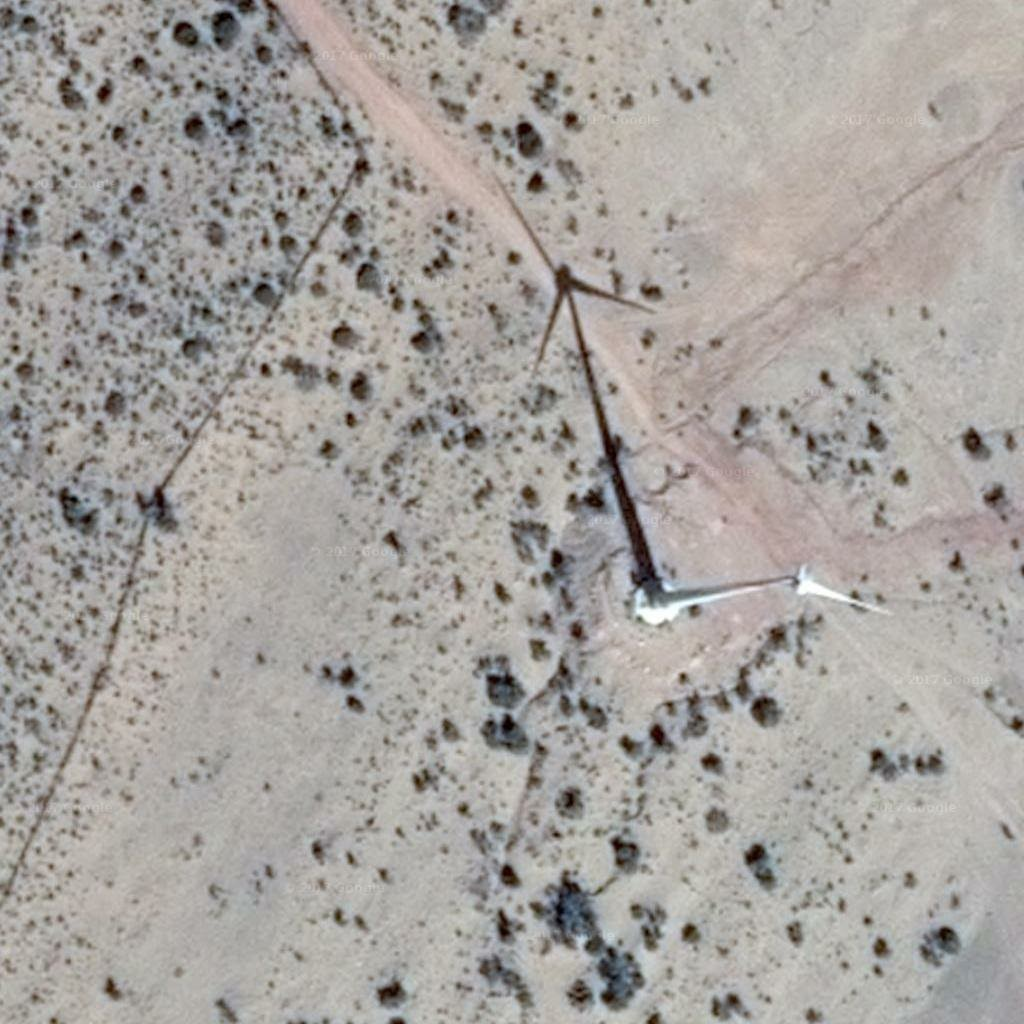Windmill: (481, 163, 665, 570)
